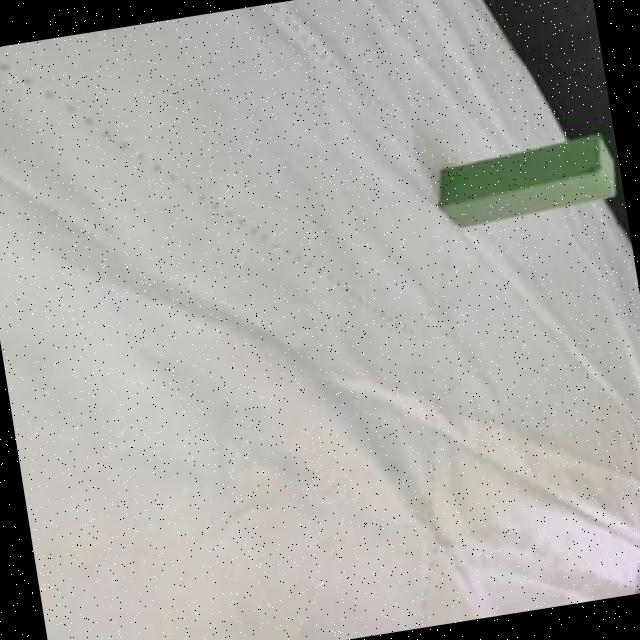greenbox: (428, 133, 618, 230)
